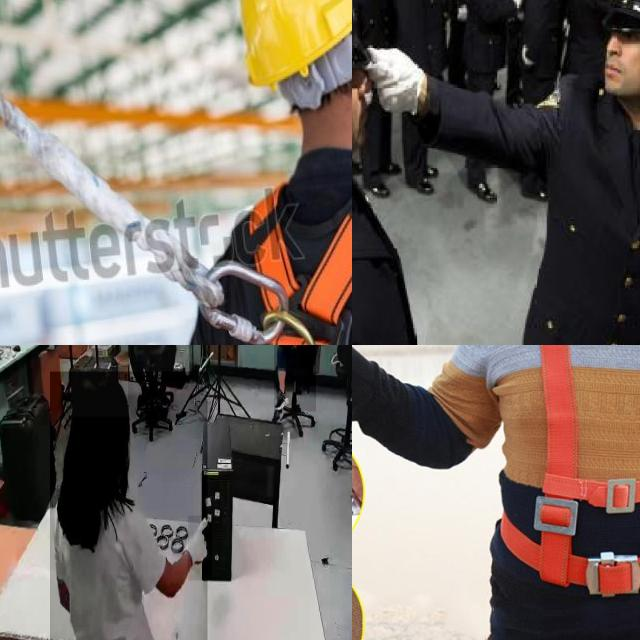Harness: (507, 345, 640, 601), (249, 187, 352, 345)
face_nomask: (589, 10, 640, 97), (352, 50, 382, 150)
hand_glove: (366, 44, 424, 118), (188, 516, 212, 580), (456, 4, 468, 22)
hand_noglove: (288, 345, 299, 349)
head_nohelmet: (71, 367, 129, 418)
person: (507, 0, 640, 345), (50, 371, 208, 640), (352, 0, 465, 345), (391, 0, 458, 211), (460, 0, 528, 203), (273, 345, 316, 412), (132, 345, 179, 401)
shoes: (272, 385, 291, 414)
